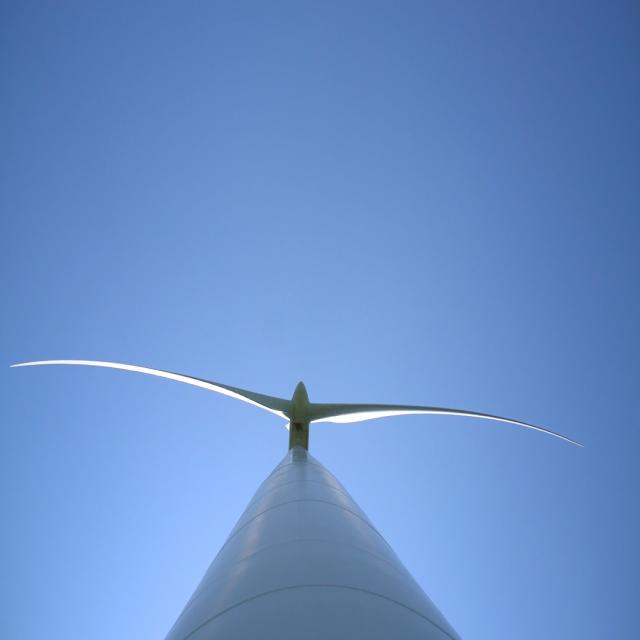blade 2: (14, 332, 238, 398)
blade 3: (348, 389, 571, 455)
